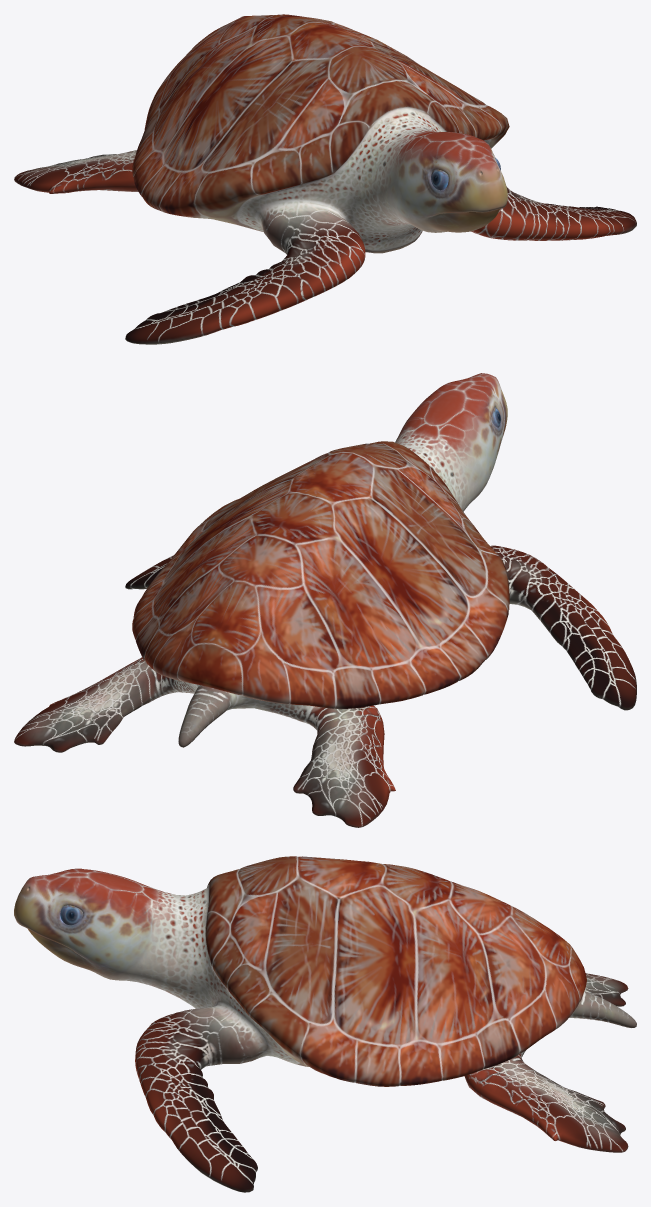
Rendered from LoggerheadTurtle.FBX.
3 renders of one model, top to bottom at view 1: azimuth 30°, elevation 25°; view 2: azimuth 150°, elevation 25°; view 3: azimuth 270°, elevation 25°, orthographic.
Visible parts, largest first — view 1: LoggerheadTurtle; view 2: LoggerheadTurtle; view 3: LoggerheadTurtle.
Boxes of the visible parts, bbox=[...] form: LoggerheadTurtle: bbox=[14, 14, 636, 344]; LoggerheadTurtle: bbox=[14, 373, 636, 827]; LoggerheadTurtle: bbox=[14, 856, 636, 1192].
Bounding box in the file's own units: 40.7 × 16.5 × 43.99.
